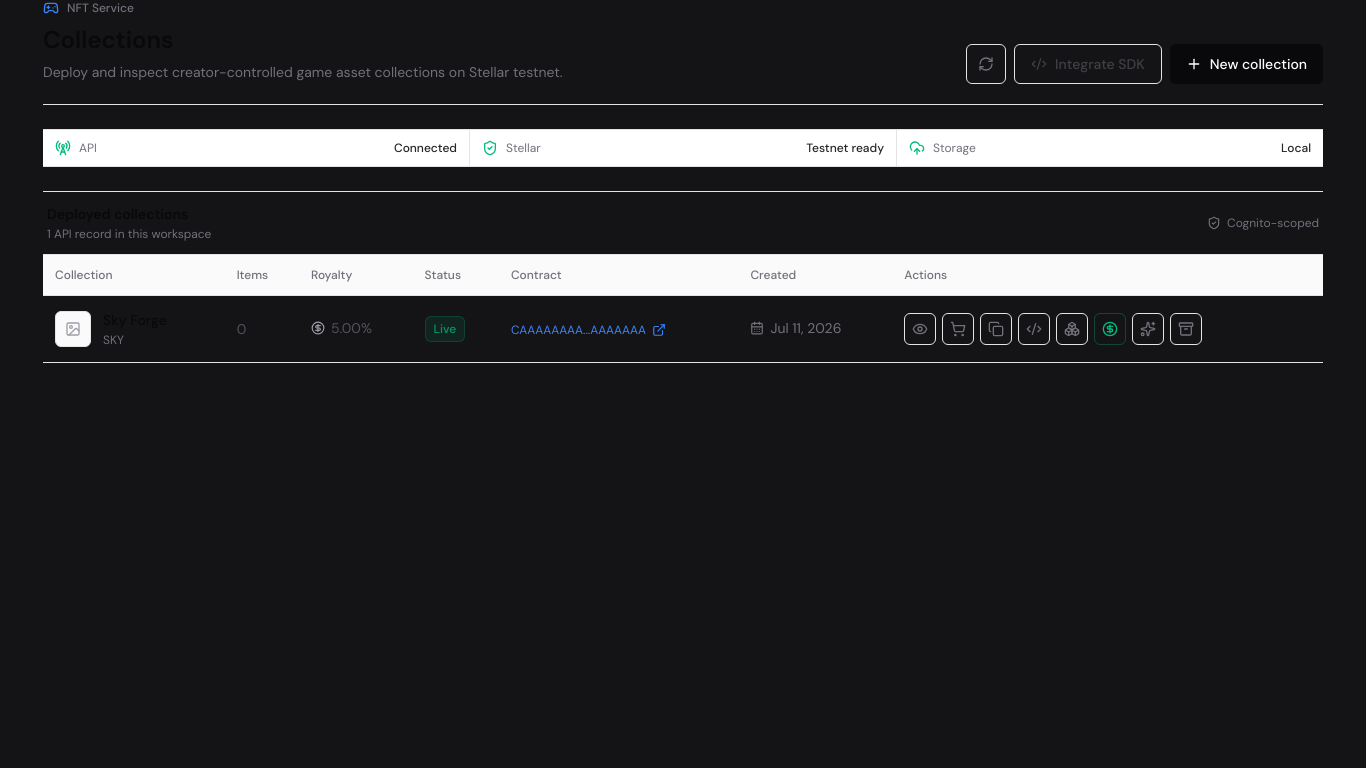
Test case: CollectionDashboard › shows configured primary sales as updateable instead of unprepared
Click the button titled "Update primary sale" at (1110, 329), box [1094,313,1126,345]
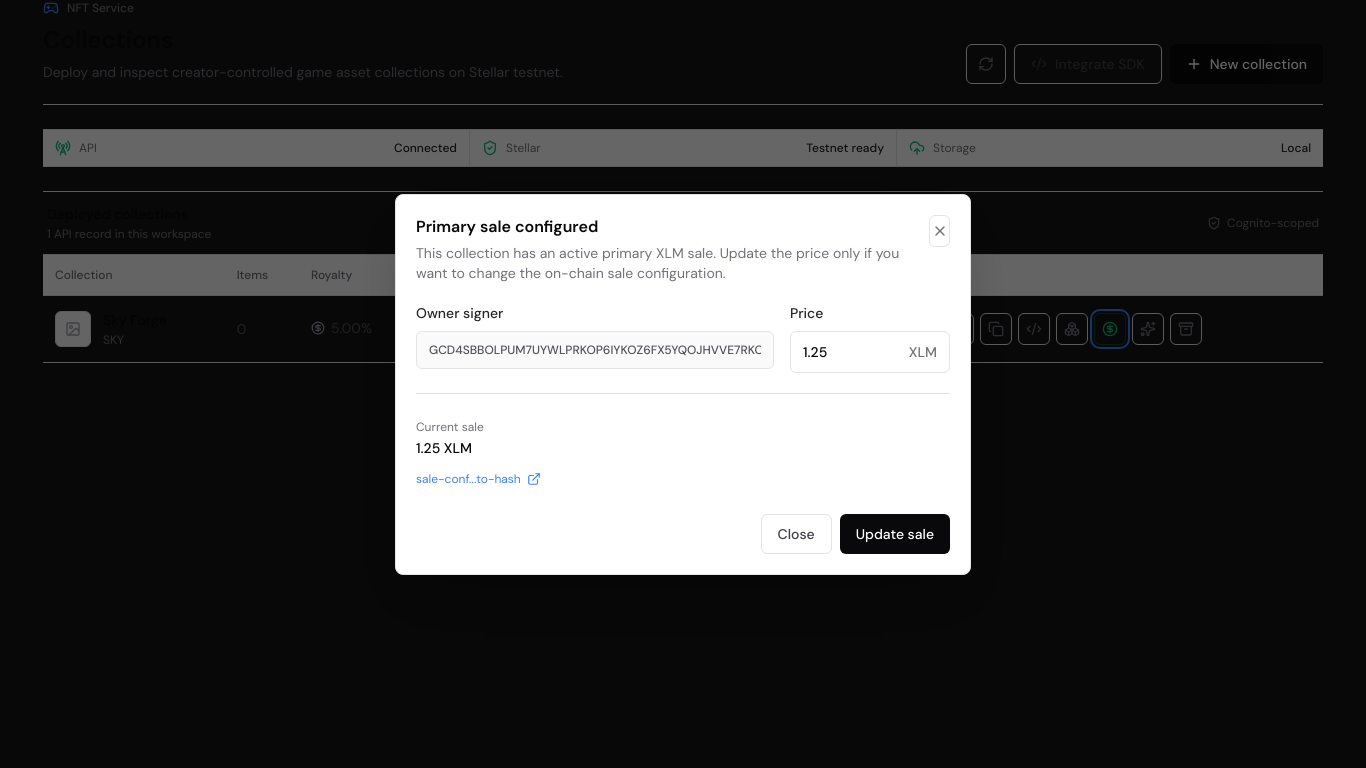
Expected: the heading "Primary sale configured" is shown, [416,216,598,236]
Expected: the text "1.25 XLM" is shown, [416,438,472,456]
Expected: the button "Update sale" is shown, [840,514,950,554]
